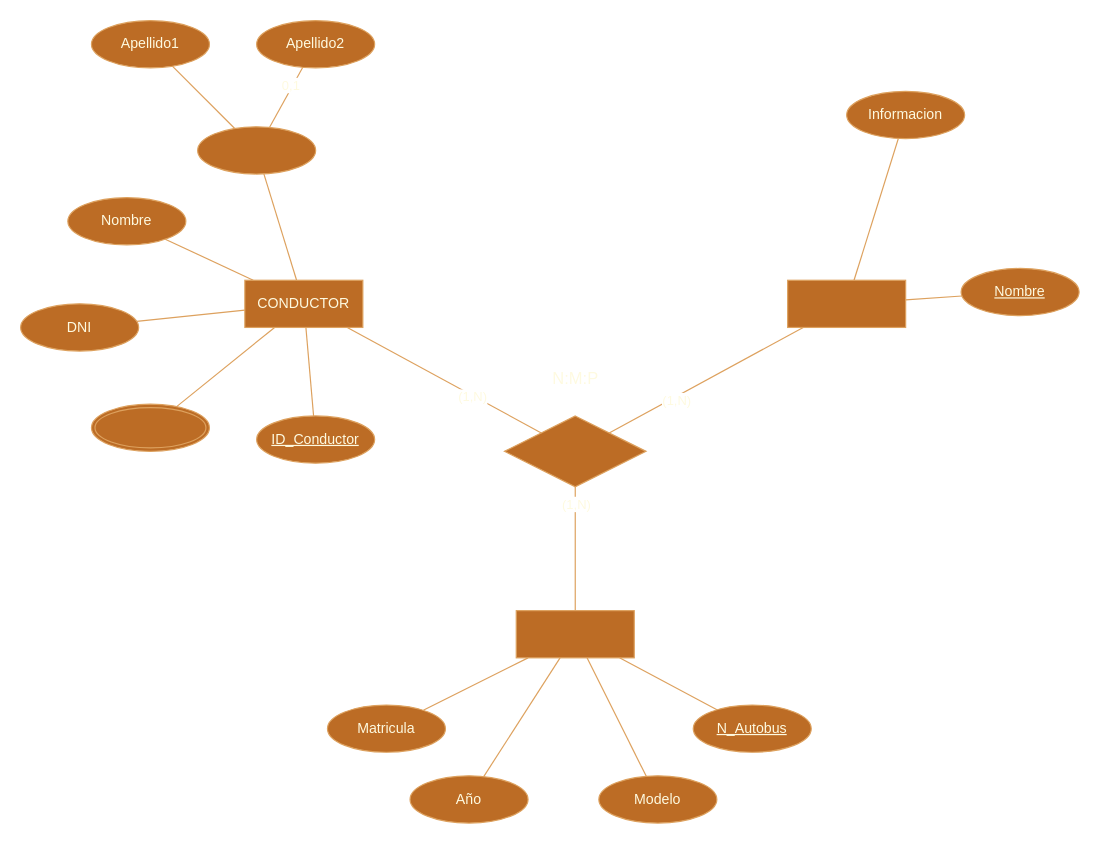
The diagram is 1100 pixels wide and 844 high, and some of its shapes have lost their labels. The centre of each missing label's shape, as x and y in pixels:
"Apellidos" goes at point 256,150.
"AUTOBUS" goes at point 574,633.
"Conduce" goes at point 574,451.
"LUGAR" goes at point 846,303.
"Telefono" goes at point 149,427.
